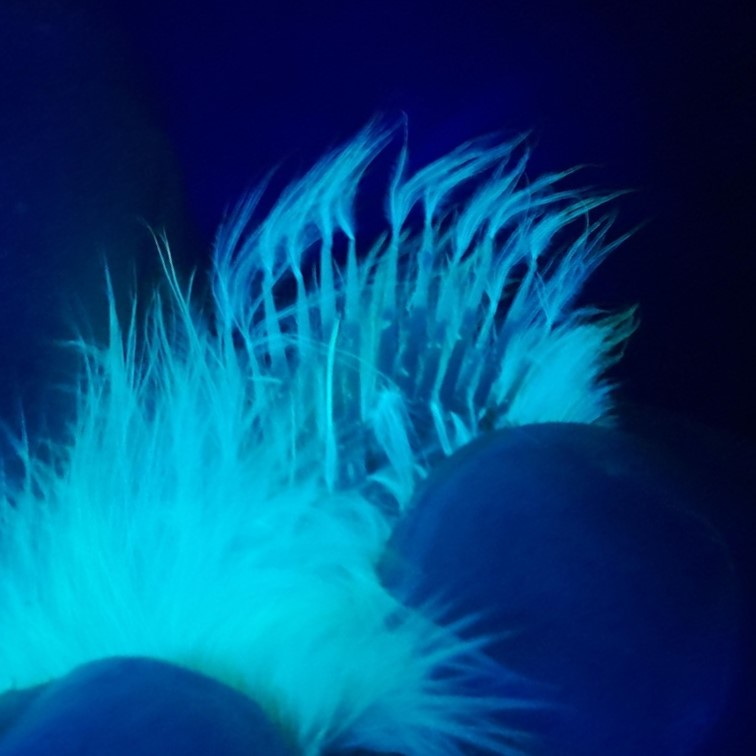male: (236, 231, 562, 481)
